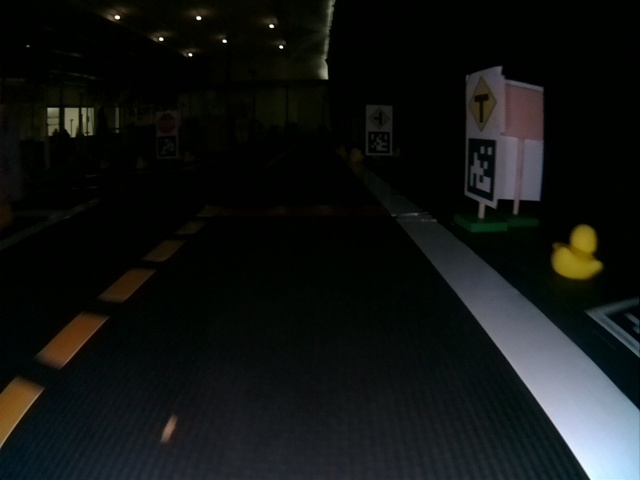Duckie: (551, 228, 602, 280), (349, 148, 361, 162), (184, 152, 193, 162), (136, 157, 144, 166)
Intersection sign: (466, 75, 498, 131), (368, 108, 390, 128)
QR code: (587, 299, 638, 357), (465, 138, 497, 201), (367, 131, 391, 155), (157, 135, 177, 157)
Stop sign: (157, 112, 177, 134)
